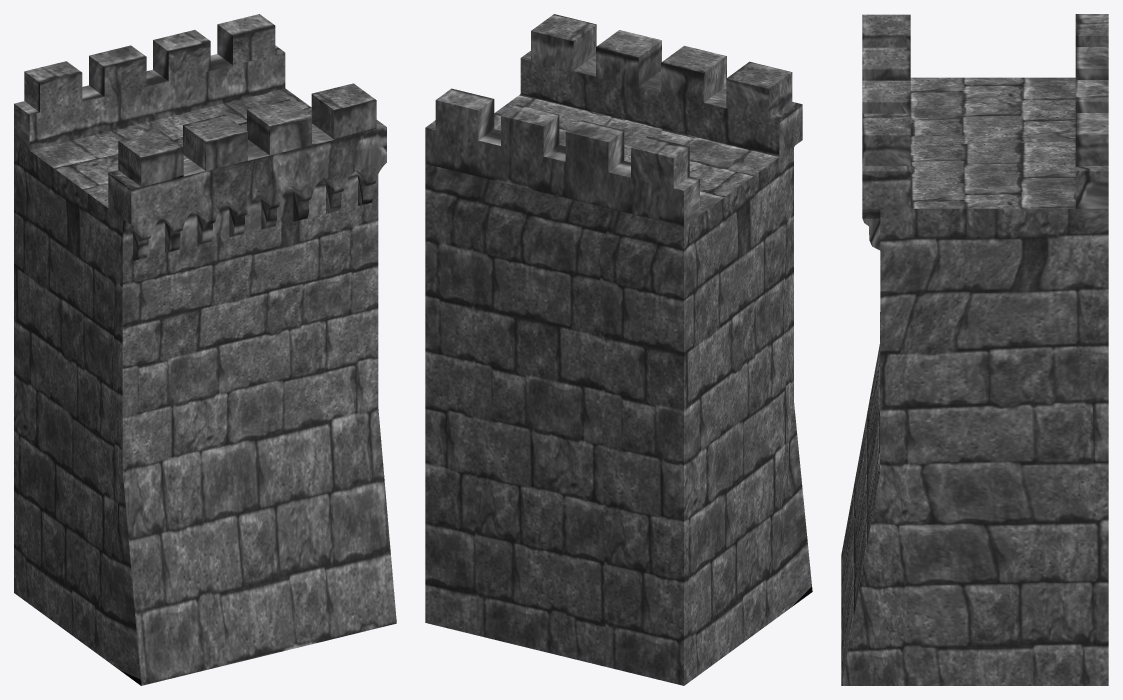
Rendered from Wall_v0.9.fbx.
3 views of the same model, side by side, from view 1: azimuth 30°, elevation 25°; view 2: azimuth 150°, elevation 25°; view 3: azimuth 270°, elevation 25° (orthographic). The views are drawn at different scales.
Visible parts, largest first — view 1: Wall; view 2: Wall; view 3: Wall.
Boxes of the visible parts, <box> form: Wall: <box>14,14,396,685</box>; Wall: <box>425,14,812,685</box>; Wall: <box>841,14,1108,685</box>.
Bounding box in the file's own units: 8.34 × 16.18 × 7.18.
